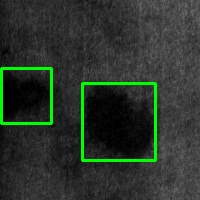patches: (82, 83, 155, 160), (1, 68, 51, 123)
